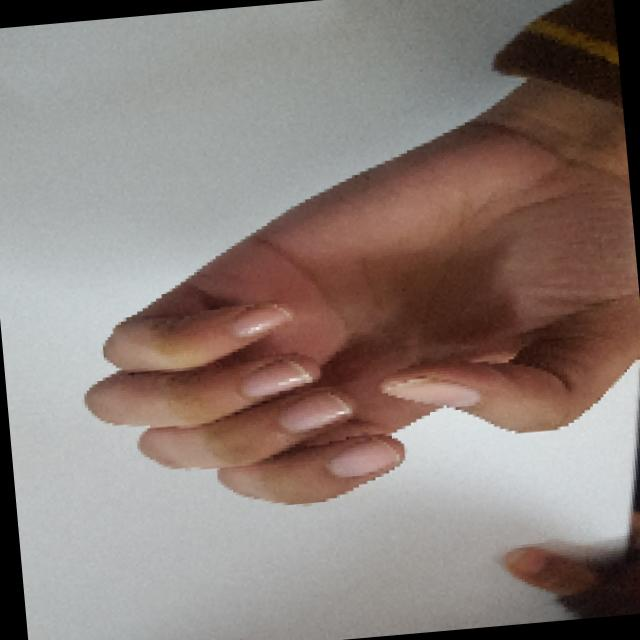Nail: (278, 391, 351, 430), (327, 438, 401, 476), (381, 377, 479, 405), (240, 359, 310, 396), (232, 305, 290, 335)
